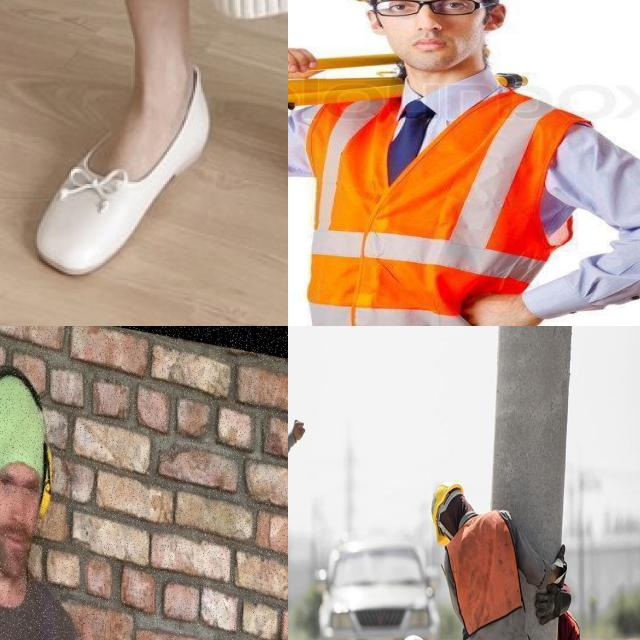Sandals: (30, 66, 208, 290)
face_nomask: (366, 0, 506, 70)
glasses: (366, 0, 490, 20)
hand_glove: (535, 584, 560, 634)
hand_noglove: (457, 293, 536, 326), (288, 40, 320, 77), (290, 404, 308, 447)
head_helmet: (429, 482, 466, 546)
person: (288, 0, 621, 326), (427, 482, 560, 640)
vest: (321, 79, 581, 326), (443, 518, 535, 632)
